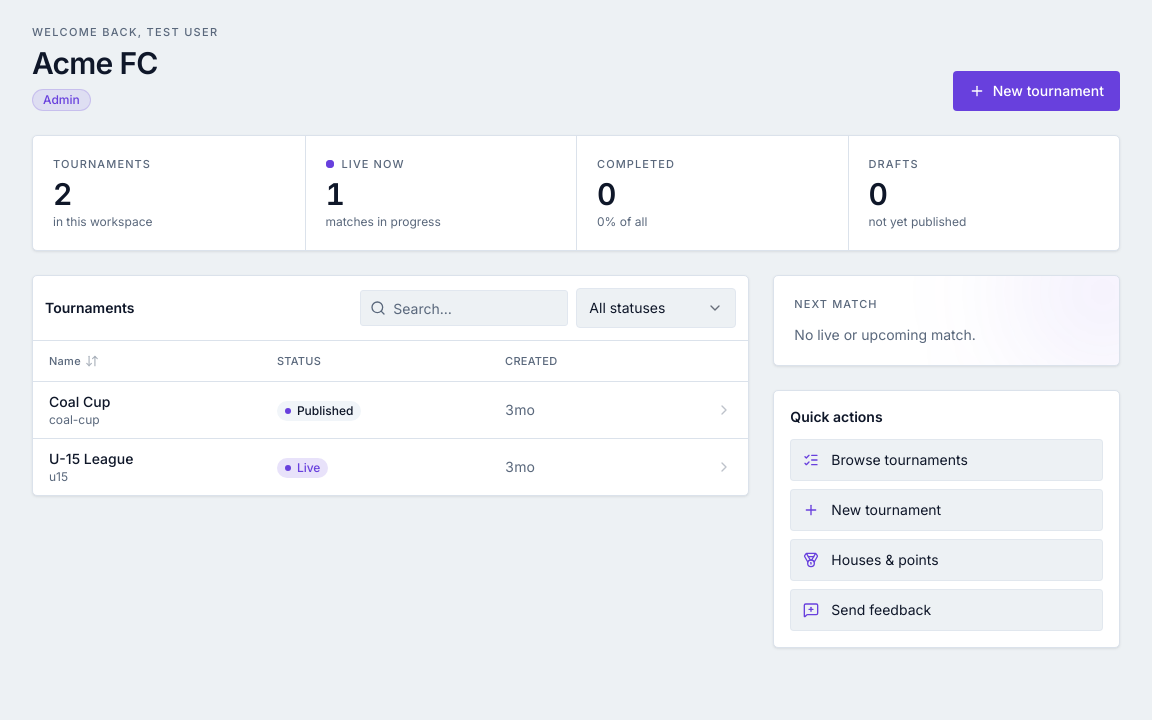
Test case: OrgDashboardPage › filters the table by search
This screenshot has width=1152, height=720.
Expected: the text "Coal Cup" is shown, [49,393,110,410]
Type "u-15" into the field named "search tournaments".
click(464, 308); type("u-15")  # box [360,290,568,326]
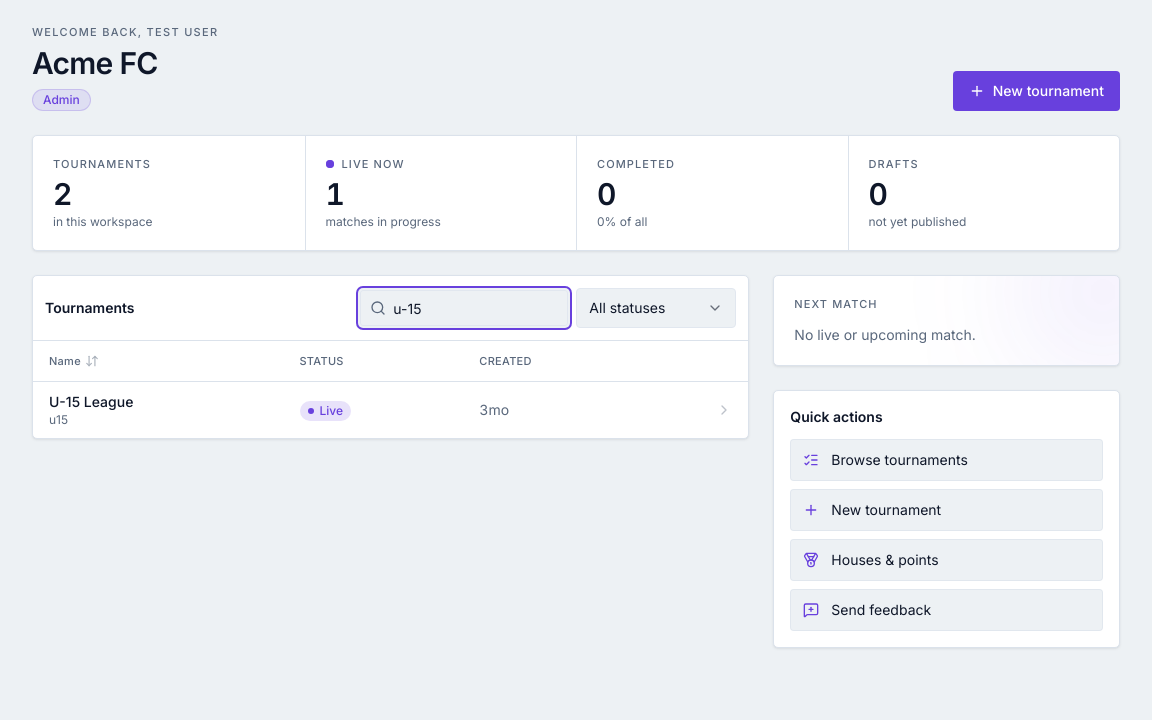
Expected: the text "U-15 League" is shown, [49,393,133,410]
Now the link "Coal Cup" is gone
